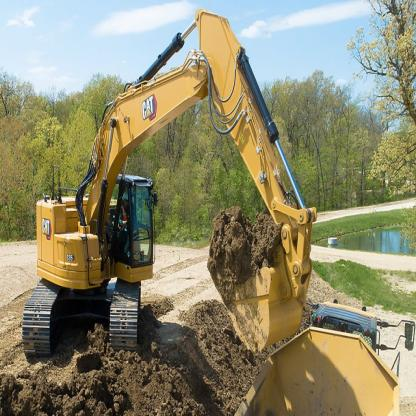excavator: (25, 2, 322, 361)
